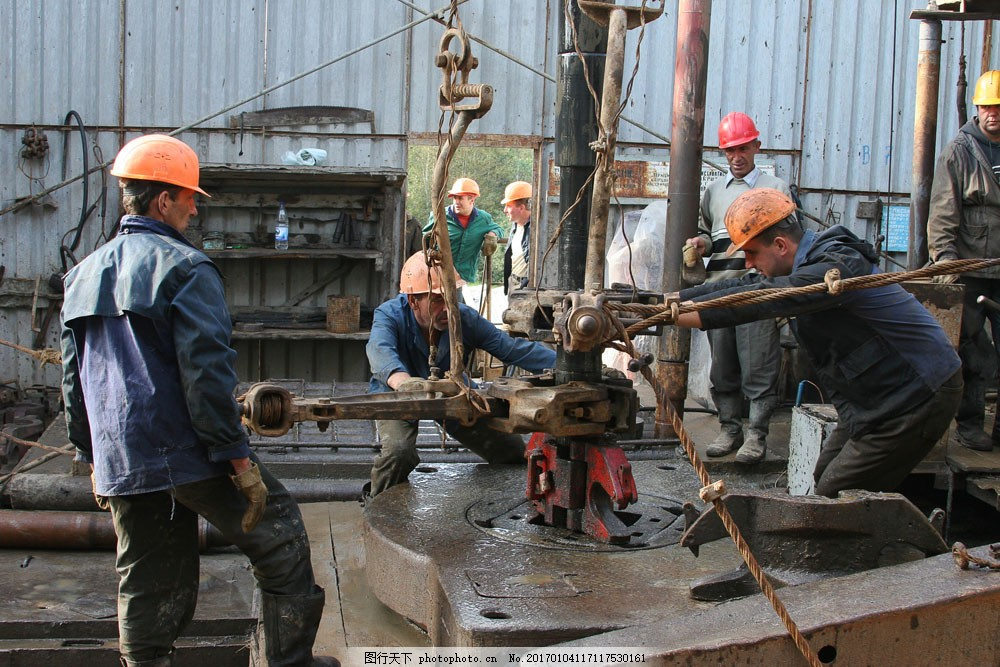safetyhat: (65, 122, 335, 657), (712, 188, 944, 491), (363, 237, 515, 470), (683, 104, 797, 191), (435, 176, 497, 268), (499, 171, 542, 280)
